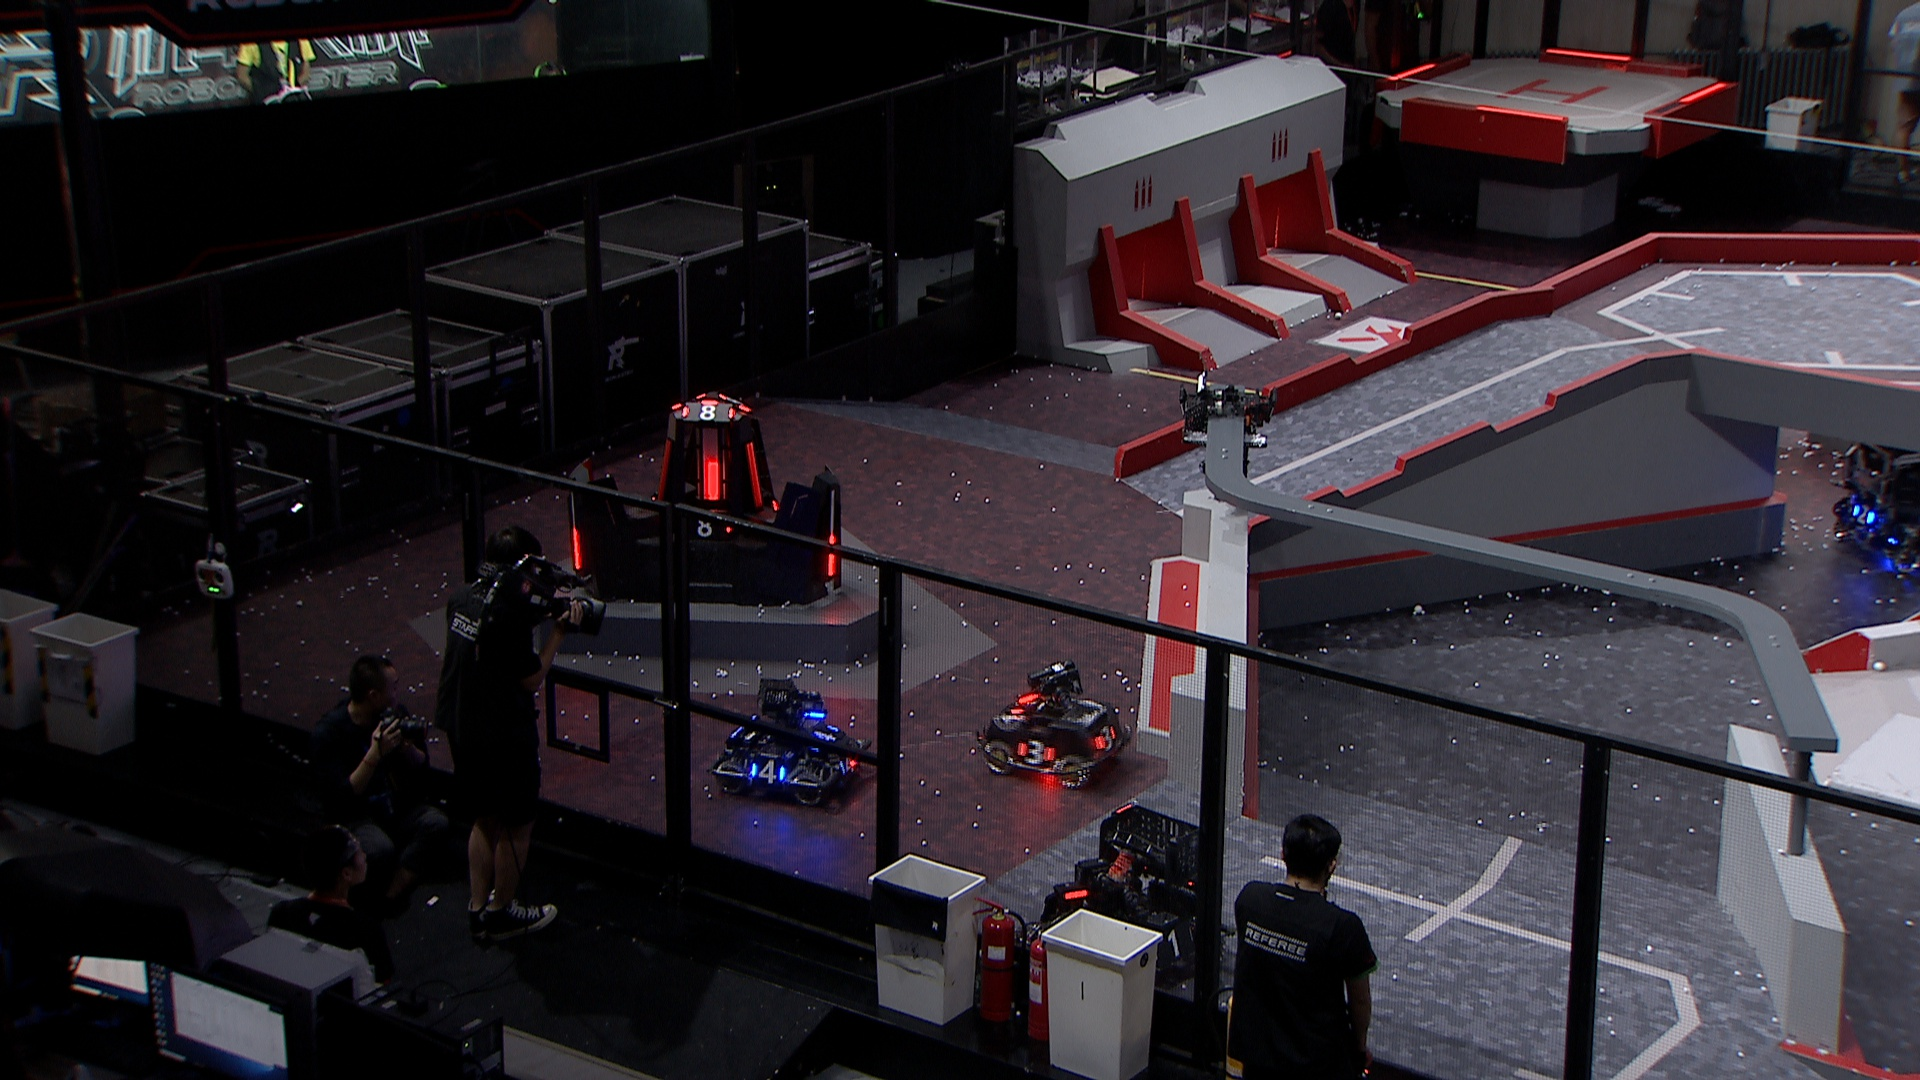armor: (651, 436, 671, 509), (1155, 924, 1196, 959), (744, 440, 765, 505), (678, 513, 731, 537), (680, 401, 735, 419), (746, 760, 785, 783), (1015, 741, 1054, 764), (700, 458, 719, 501), (1011, 690, 1040, 712), (1847, 501, 1875, 524), (571, 524, 583, 574), (814, 723, 839, 746), (1097, 723, 1116, 752), (827, 533, 837, 575), (843, 752, 855, 775)
base: (560, 390, 851, 609)
car: (1034, 796, 1233, 988), (709, 674, 866, 808), (981, 659, 1129, 785), (1828, 415, 1920, 584)
watcher: (1172, 371, 1280, 491)
